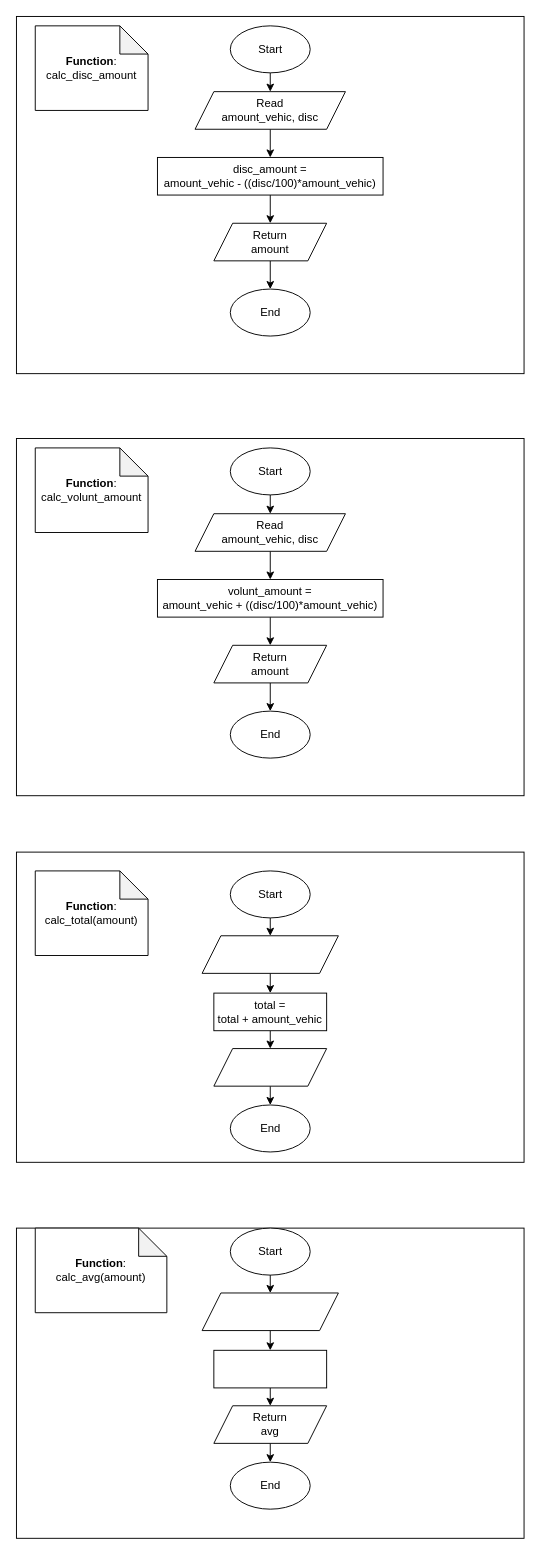
This 541x1555 diagram has some shape labels left out. The centre of each missing label's shape, as x and y in pixels:
"avg = total / i" belongs at (x=270, y=1368).
"Read total, amount_vehic" belongs at (x=269, y=954).
"Read total, i" belongs at (x=269, y=1311).
"Return total" belongs at (x=270, y=1067).
